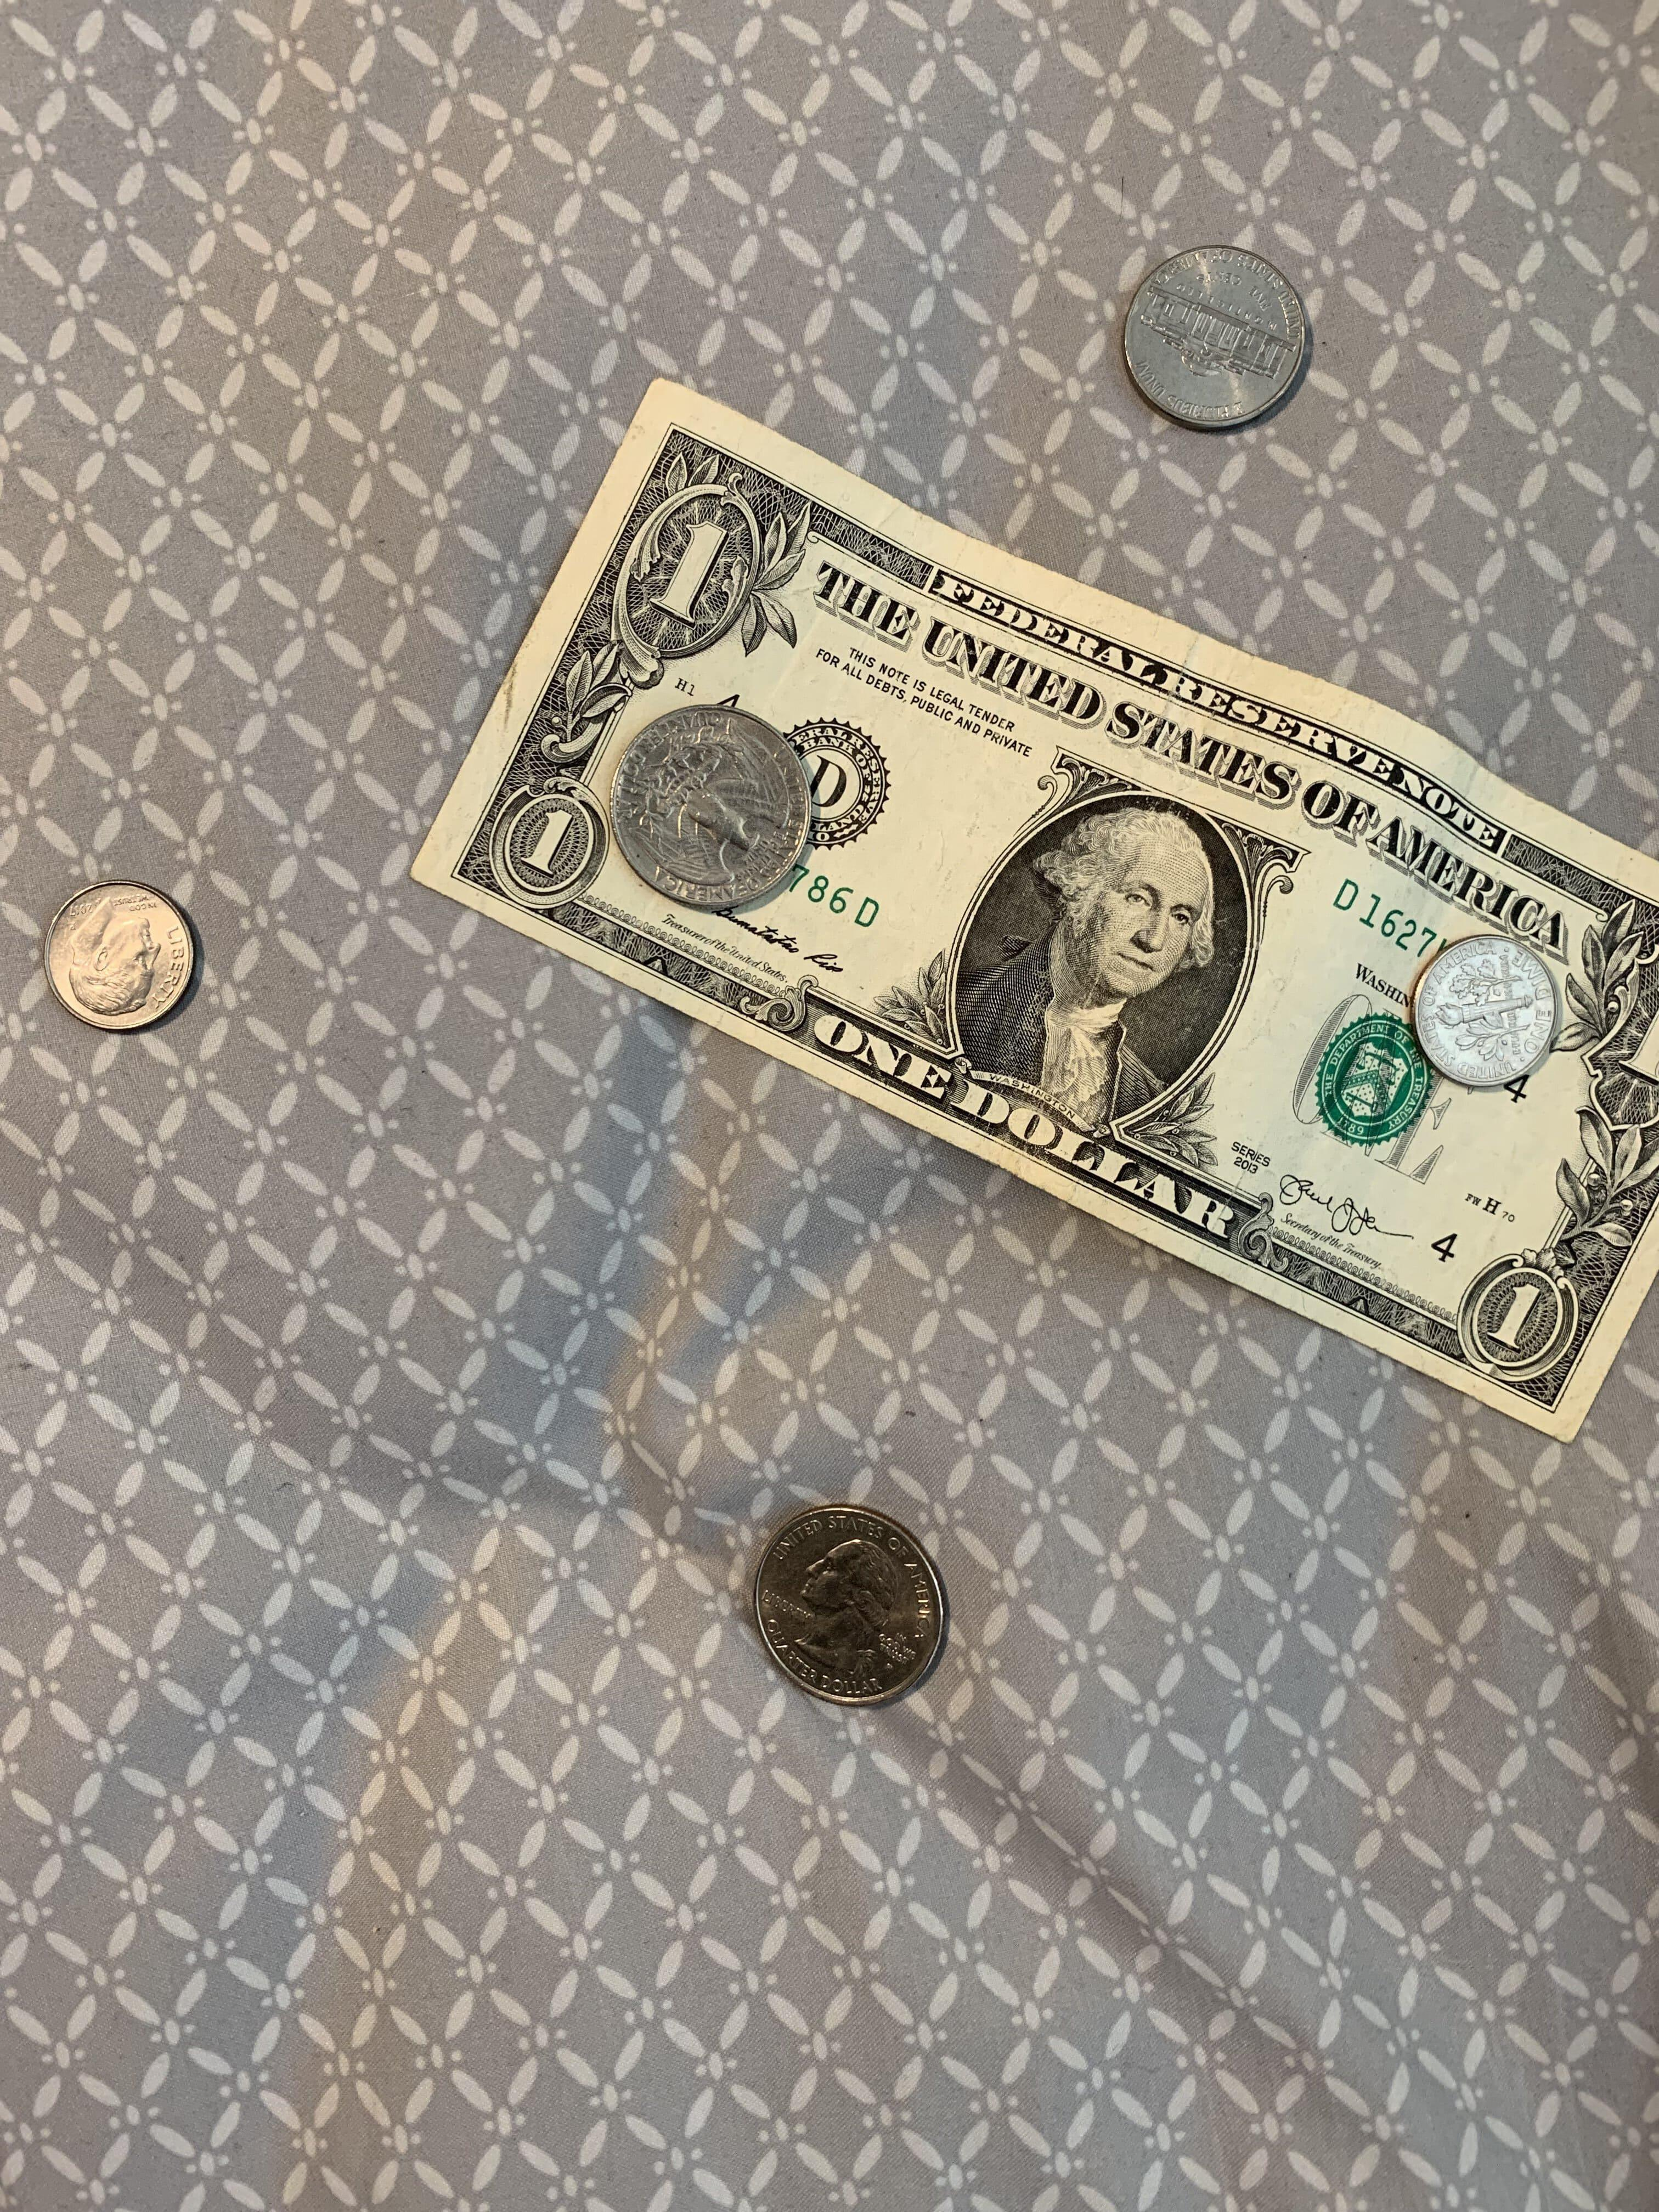Dime: (21, 859, 242, 1055), (1377, 920, 1591, 1111)
Nickel: (1091, 226, 1358, 467)
OneBill: (352, 320, 1657, 1454)
Quarter: (716, 1465, 1000, 1724), (582, 678, 849, 939)
